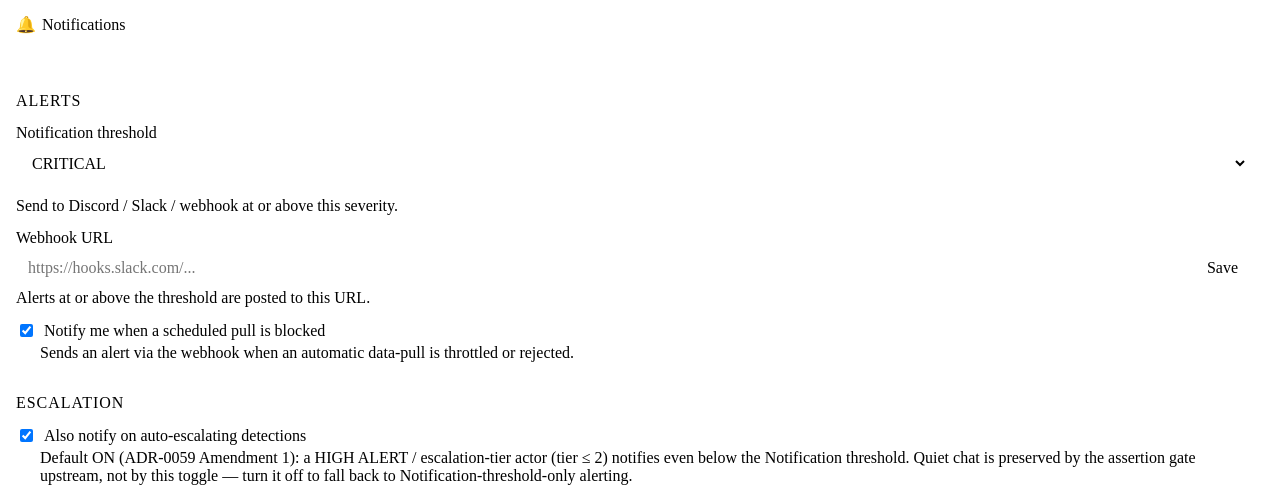
it: NotificationsPanel — NotifyOnAutoEscalateToggle › shows success toast after disabling notify_on_auto_escalate
The width and height of the screenshot is (1262, 502).
Step 1. Click the checkbox with test id "notify-on-auto-escalate-toggle" → (26, 436), box [20,429,33,442]
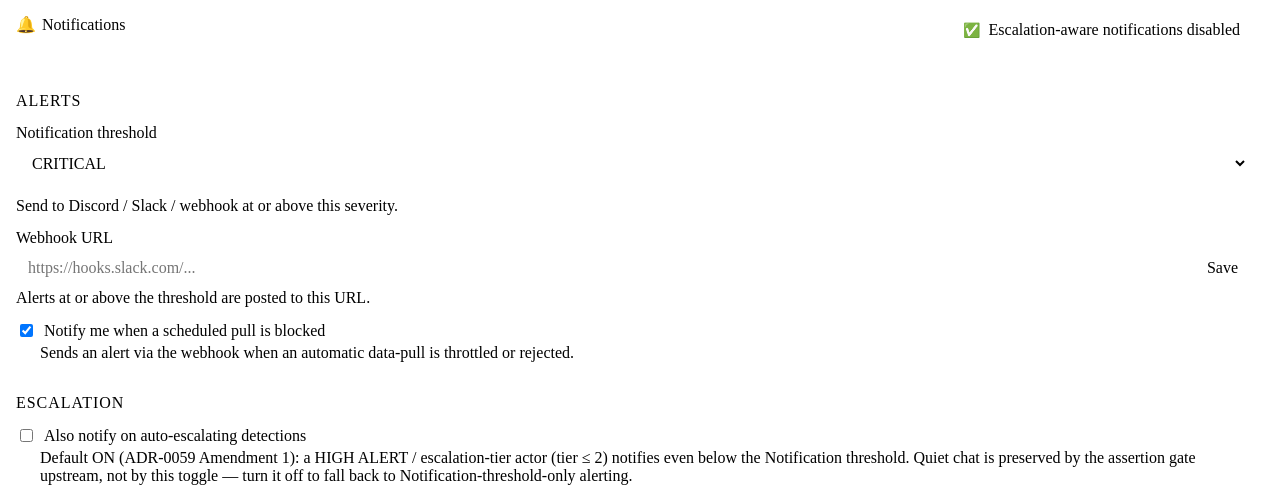
Now the message shows "disabled", box [988,21,1240,38]
